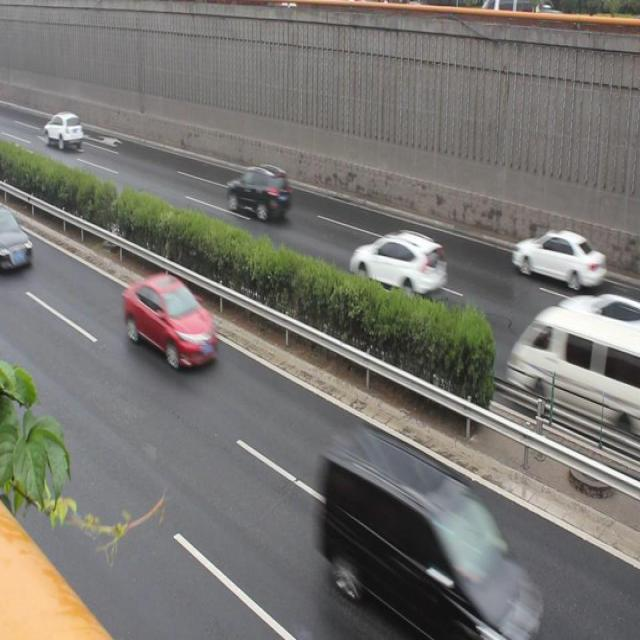car: (124, 272, 217, 374), (352, 227, 446, 302), (511, 218, 602, 290), (224, 162, 290, 221), (1, 209, 35, 276), (45, 110, 86, 156)
truck: (325, 430, 525, 640), (506, 303, 640, 434)
